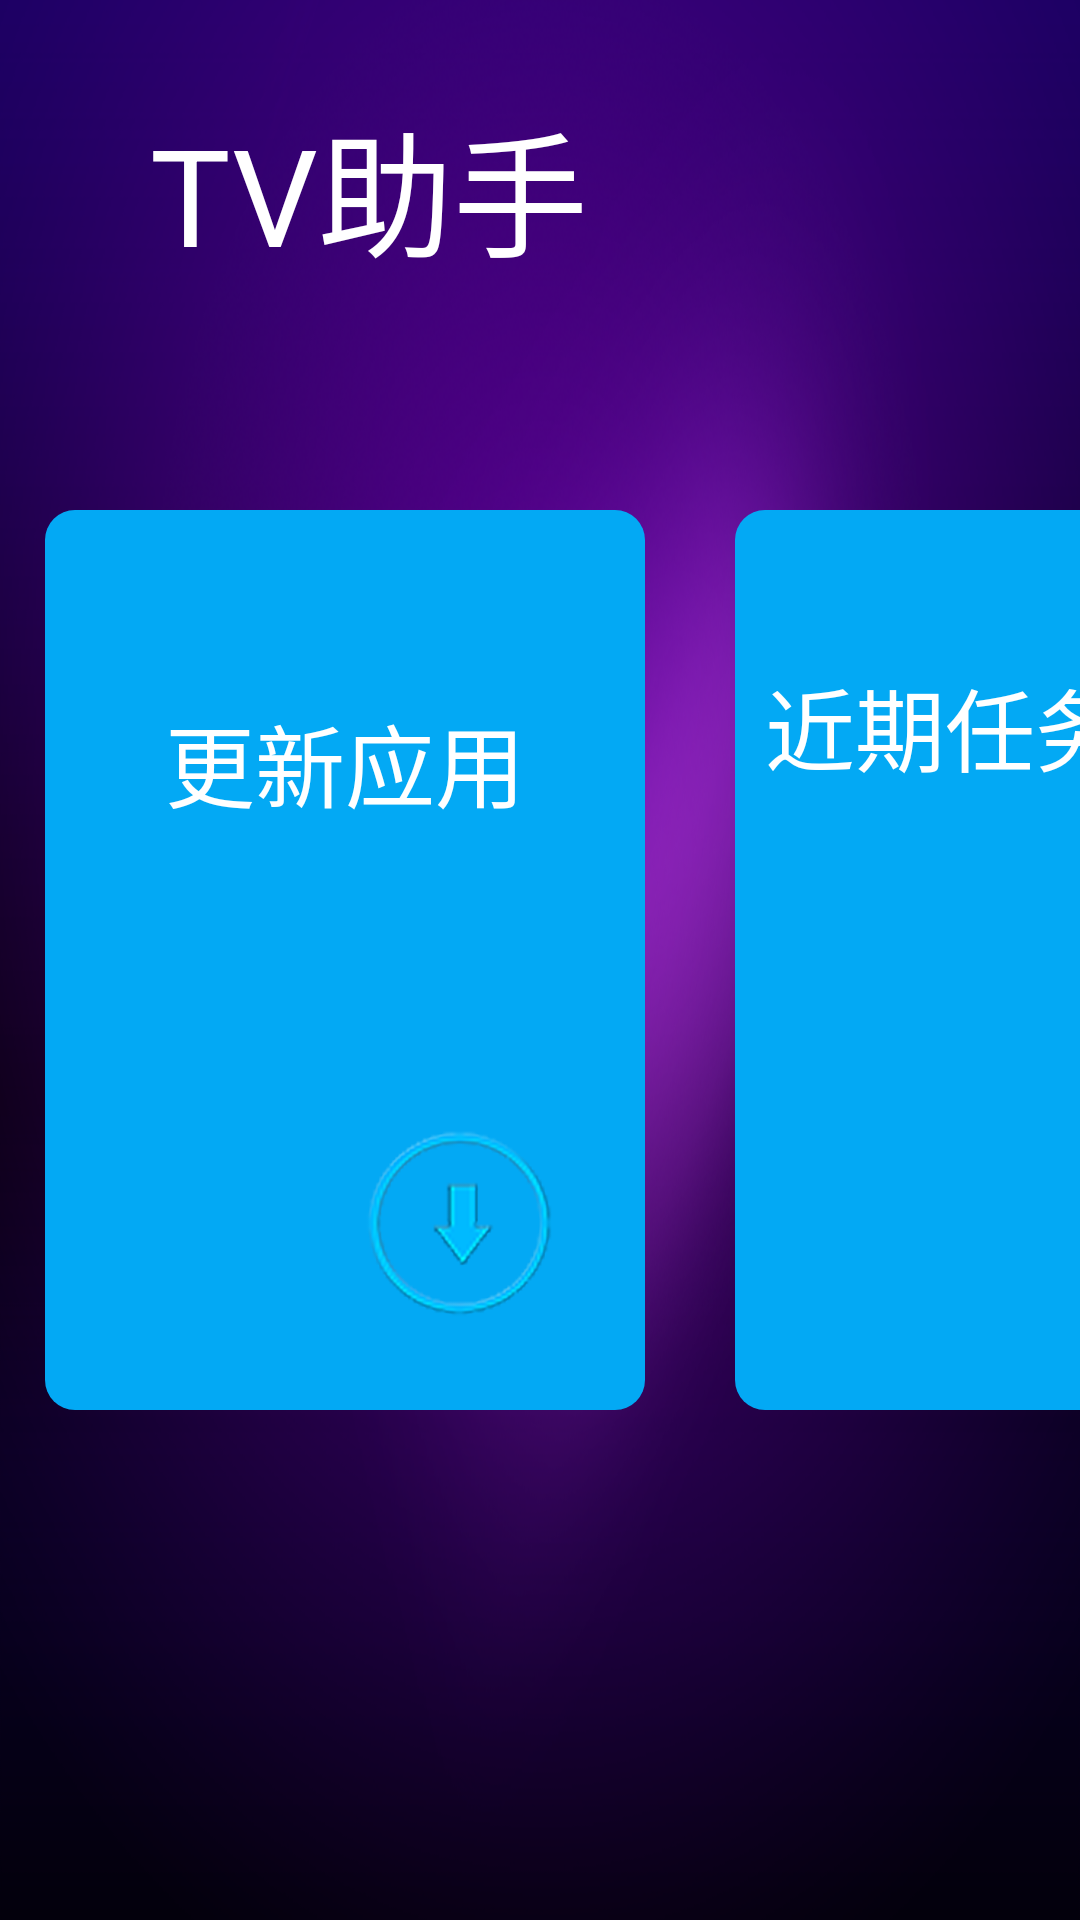

Screen size 1080w x 1920h. Icon name, then its center in pixels as point (x, y):
home update: point (460, 1223)
